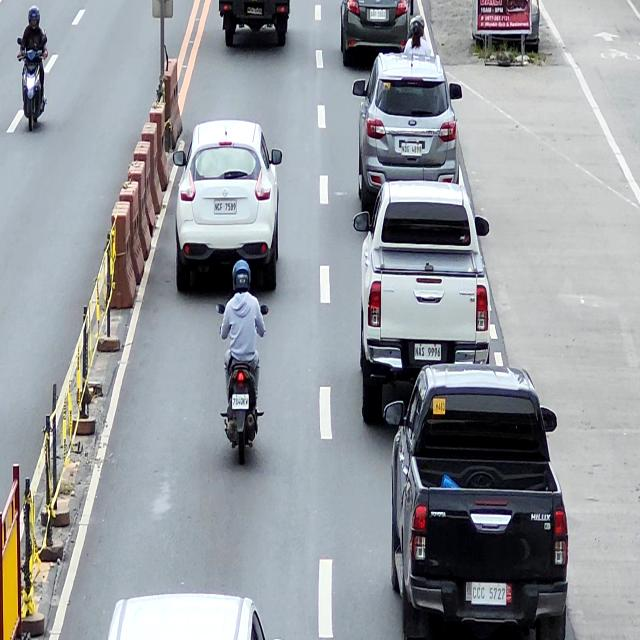Car: (383, 362, 568, 640), (354, 180, 490, 427), (174, 118, 282, 296), (354, 54, 462, 213), (340, 0, 410, 68)
License-Plate: (472, 582, 506, 605), (414, 344, 442, 362), (213, 200, 237, 214), (402, 142, 422, 158), (231, 394, 249, 409), (369, 9, 386, 20), (246, 6, 262, 15)
Motorcycle: (216, 303, 268, 465), (17, 38, 46, 131)
Truck: (218, 0, 291, 49)
